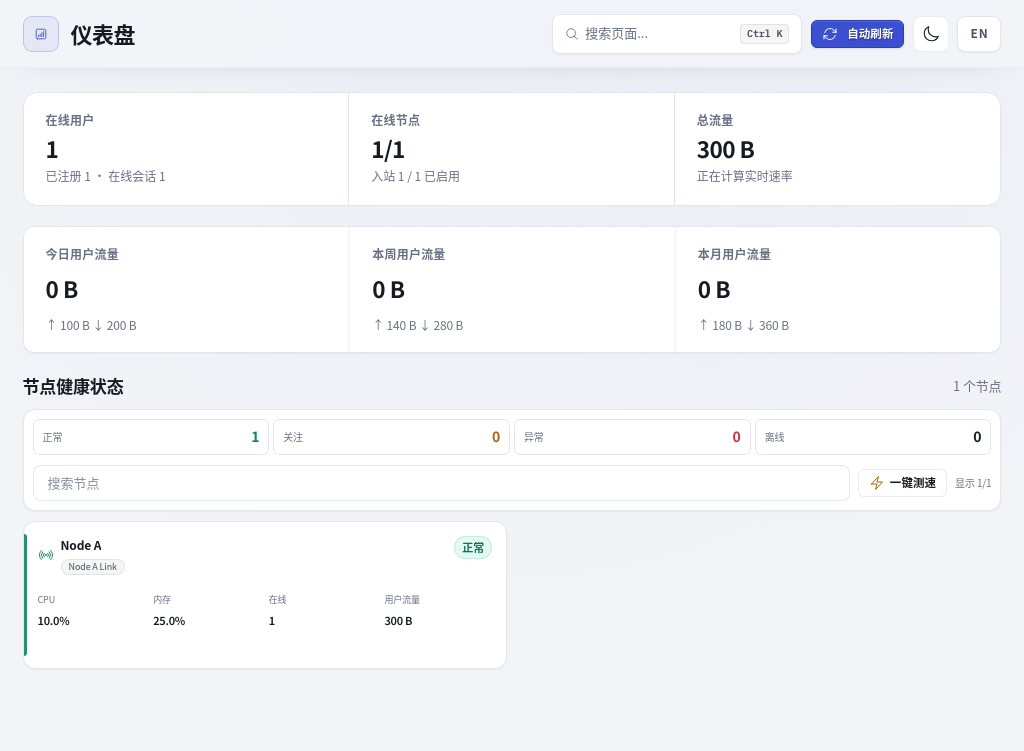
Test case: Dashboard › renders stacked online-user cards on mobile instead of the global table
Expected: the text "在线用户" is shown, [46,111,94,130]
Click the button "在线用户 1 已注册 1 · 在线会话 1": (70, 120) [24,93,349,205]
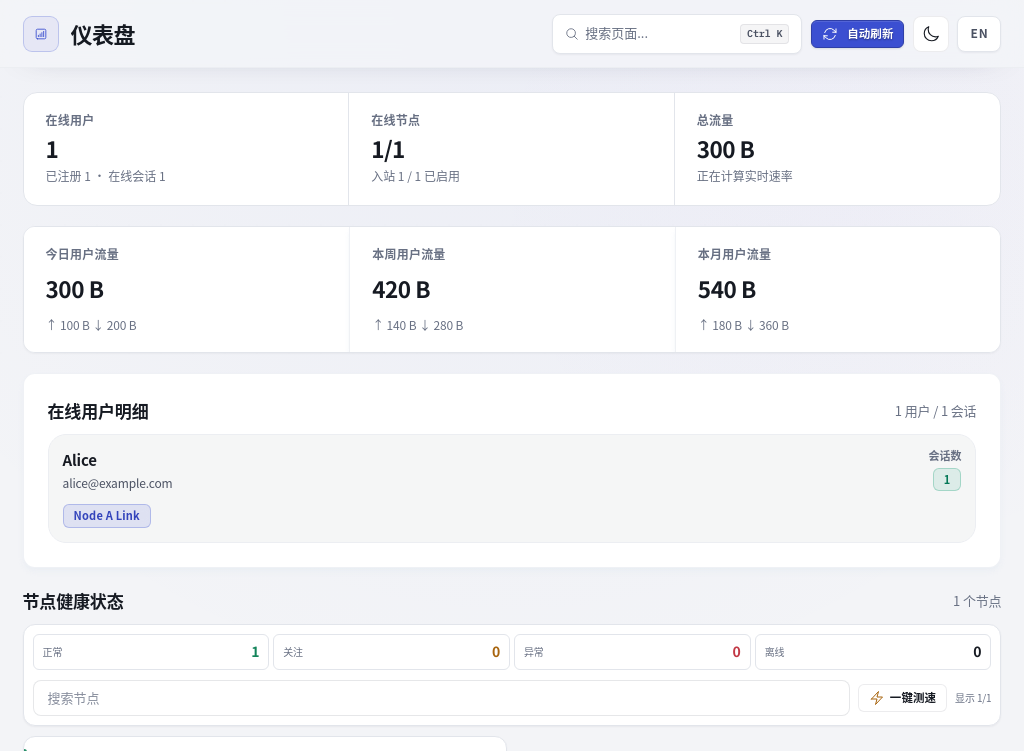
Expected: the text "在线用户明细" is shown, [48,398,148,422]
Expected: the element with class "dashboard-online-mobile-card" is shown, [48,434,976,543]
Expected: the text "Alice" is shown, [62,449,97,470]
